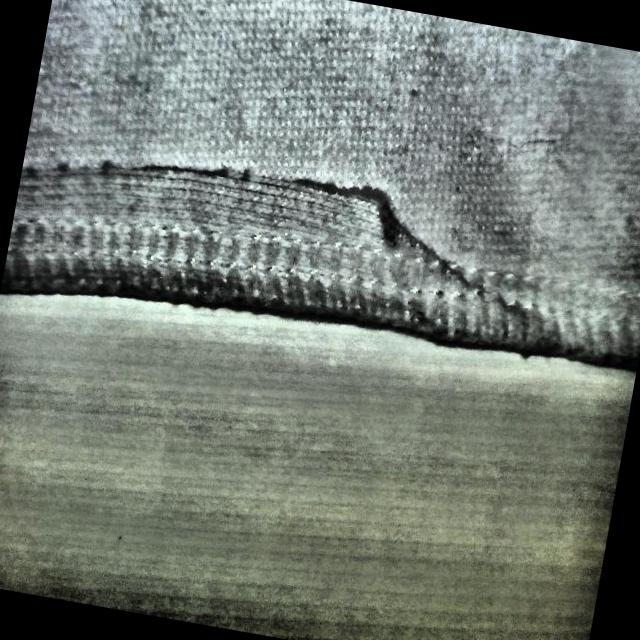gray stitch: (1, 92, 441, 364)
